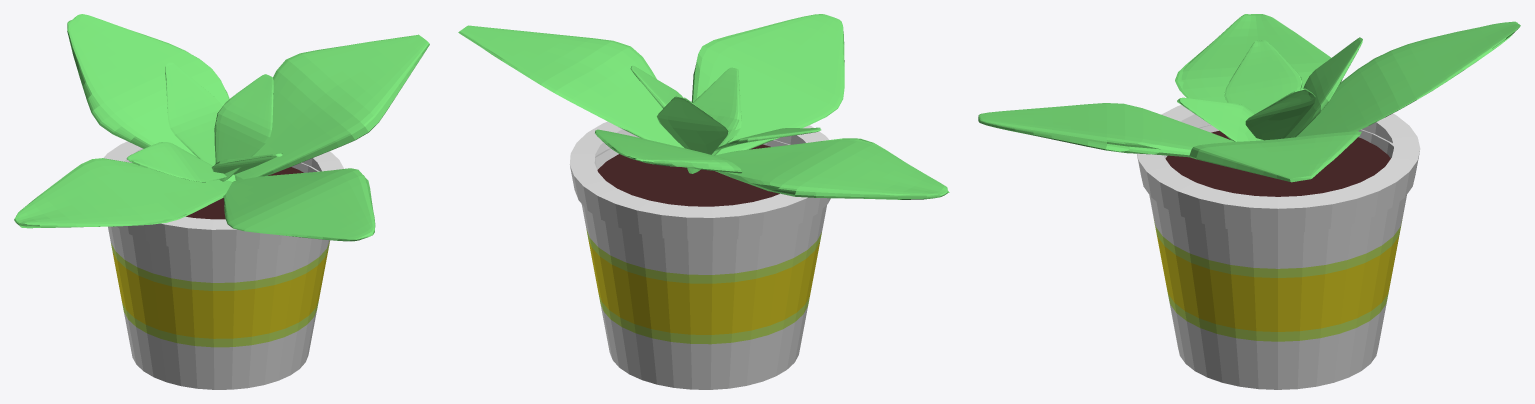
The model's file is pottedplant1.fbx.
3 views of the same model, side by side, from view 1: azimuth 30°, elevation 25°; view 2: azimuth 150°, elevation 25°; view 3: azimuth 270°, elevation 25° (orthographic). The views are drawn at different scales.
Parts seen in each view (by area): view 1: Cube.001, Cylinder; view 2: Cylinder, Cube.001; view 3: Cylinder, Cube.001.
Boxes of the visible parts, x1,y1,x2,y2 form: Cube.001: (14, 14, 429, 241); Cylinder: (103, 141, 343, 389); Cylinder: (569, 121, 830, 389); Cube.001: (458, 14, 949, 199); Cylinder: (1137, 105, 1420, 389); Cube.001: (978, 14, 1520, 182).
Size of the model in its own units: 407 by 243 by 394.
